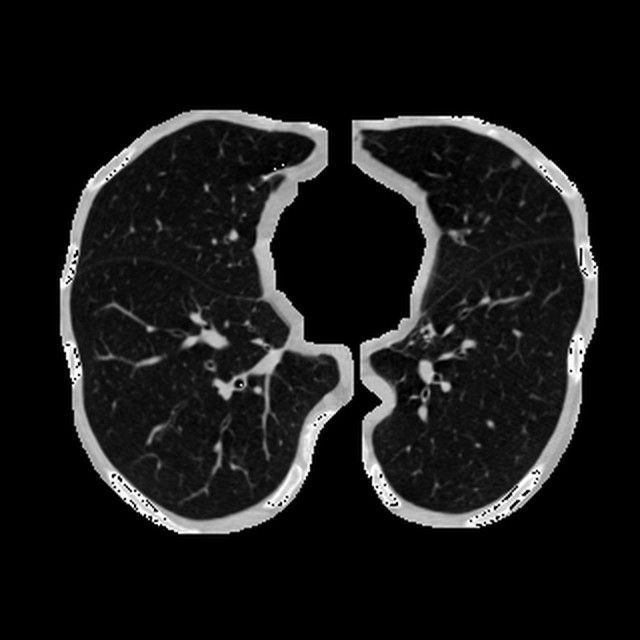PN: (510, 158, 518, 166)
